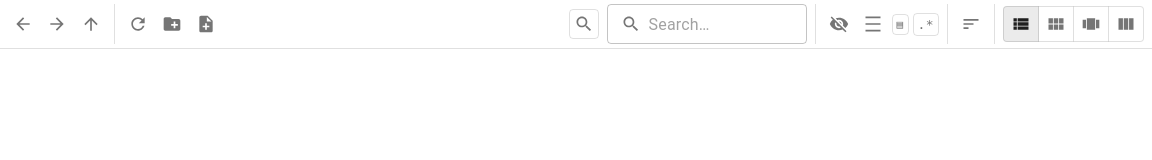
Toolbar — extras › forward history right-click opens a dropdown when entries exist
Right-click the button named "Forward" at [57, 24], box [42, 9, 72, 39]
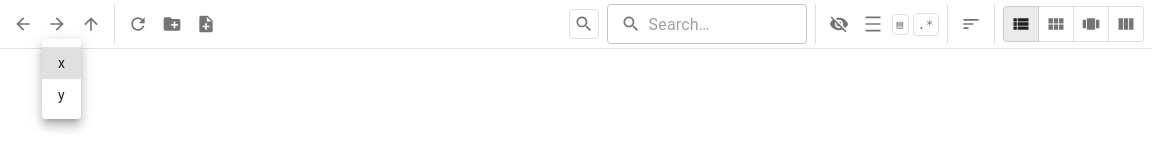
expect the menu item "x" is shown: met, box [42, 47, 81, 79]
